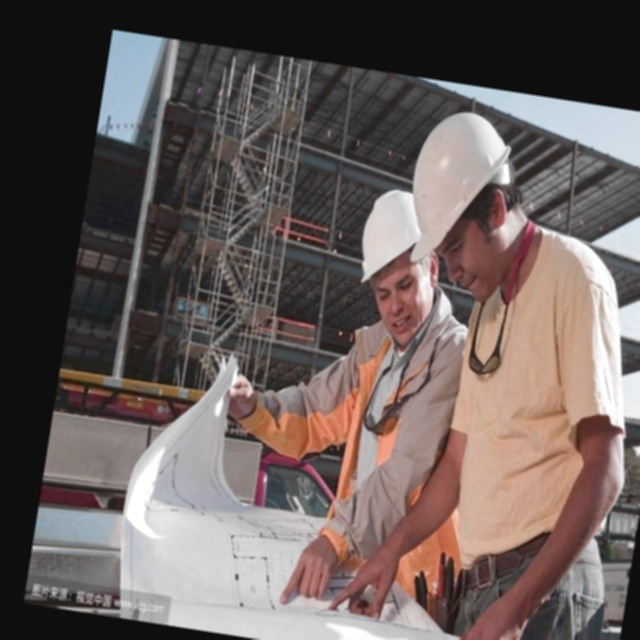Con_Casco: (395, 109, 546, 300)
Sin_Chaleco: (302, 318, 478, 564)
